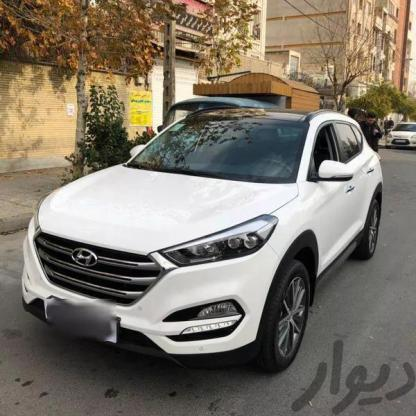Car: (17, 102, 380, 376), (382, 116, 416, 156)
